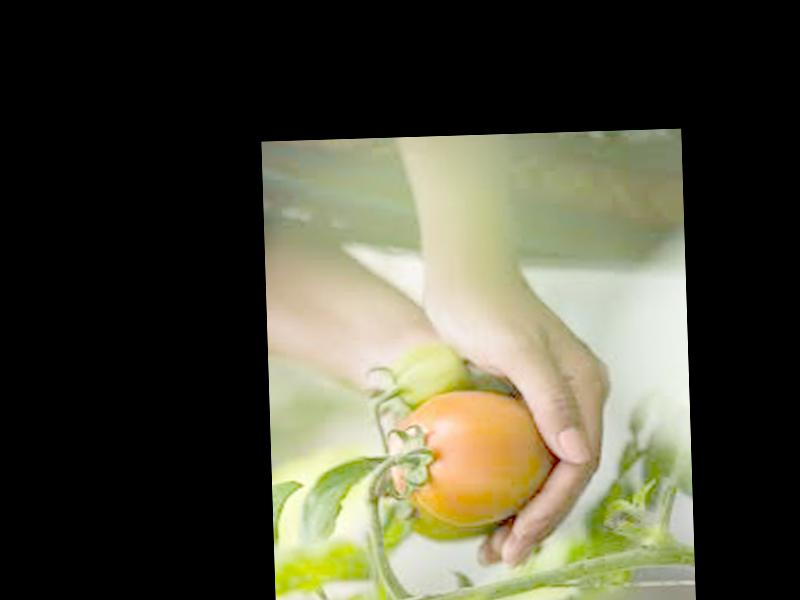Tomato: (388, 389, 546, 526)
